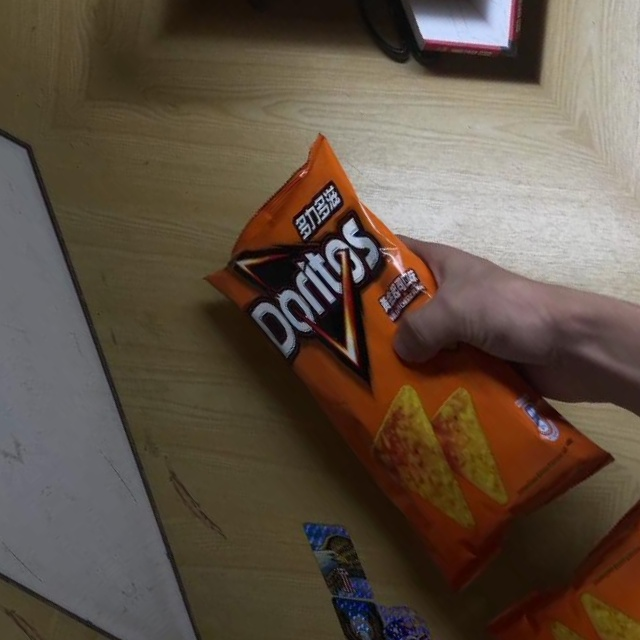Doritos: (177, 122, 617, 591)
